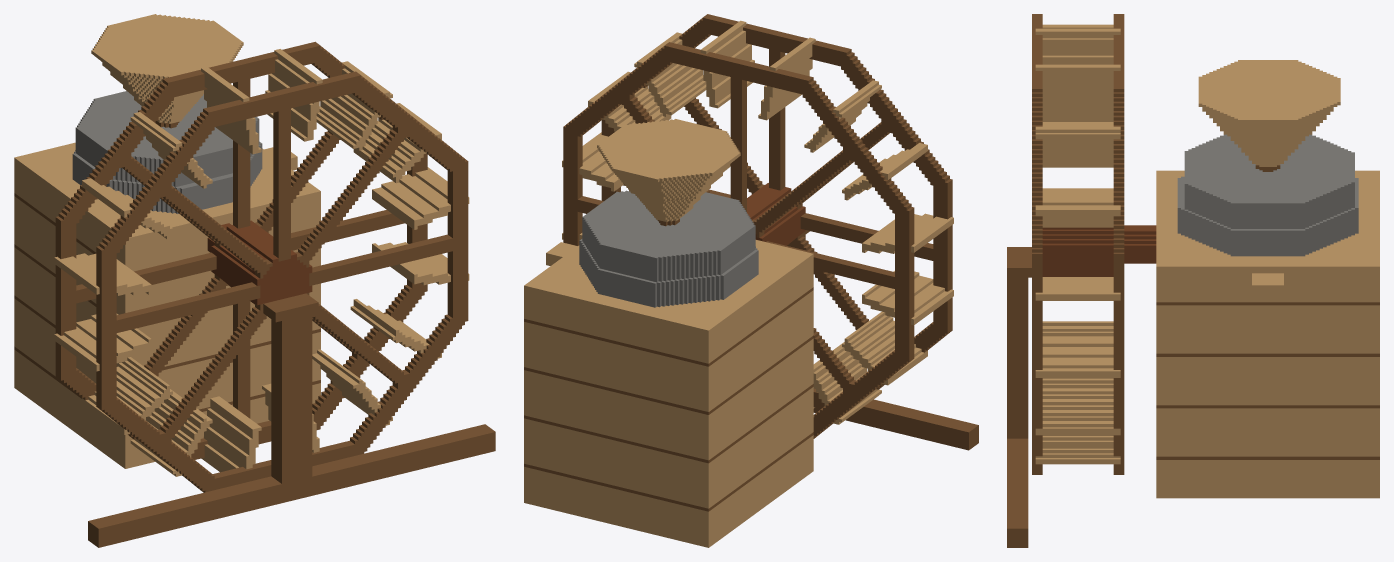
File: water_mill.glb
3 renders of one model, left to right at view 1: azimuth 30°, elevation 25°; view 2: azimuth 150°, elevation 25°; view 3: azimuth 270°, elevation 25°, orthographic. The views are drawn at different scales.
Visible parts, largest first — view 1: water_mill:compound; view 2: water_mill:compound; view 3: water_mill:compound.
Part boxes in pixels (box(x1,y1,x2,y2)): water_mill:compound: box(14, 14, 495, 547); water_mill:compound: box(524, 14, 978, 547); water_mill:compound: box(1007, 14, 1379, 547).
Bounding box in the file's own units: 1.3 × 1.25 × 1.05.
